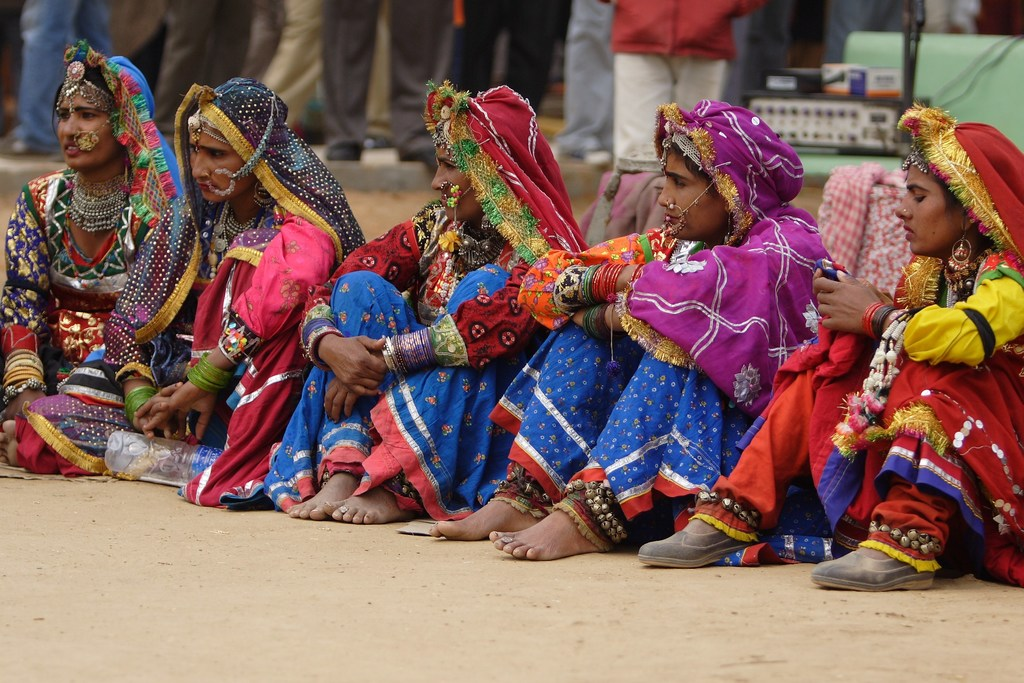face: (186, 121, 261, 201)
